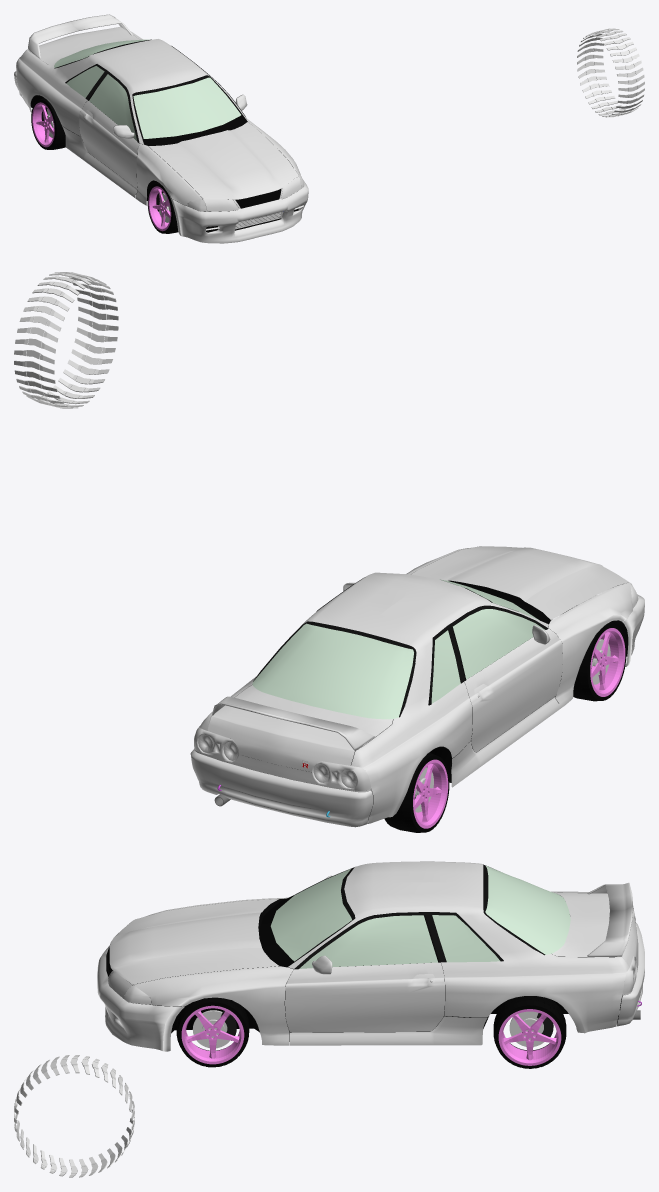
Rendered from new_wheels.fbx.
3 views of the same model, one above another, from view 1: azimuth 30°, elevation 25°; view 2: azimuth 150°, elevation 25°; view 3: azimuth 270°, elevation 25° (orthographic). The views are drawn at different scales.
Visible parts, largest first — view 1: крыша и задние крылья, капот, лобовое стекло, передний бампер, Plane, двери.005, передние крылья.001, багажник, двери.007, спойлер, Circle.004, Circle.002 (+5 smaller); view 2: крыша и задние крылья, заднее стекло, капот, багажник, двери.005, Plane, задний бампер, передние крылья.001, двери.007, Circle.004, Circle.002, задние фары (+3 smaller); view 3: крыша и задние крылья, двери, капот, передние крылья, лобовое стекло, заднее стекло, двери.002, Circle.003, передний бампер, пороги, Circle.001, багажник (+7 smaller).
Boxes of the visible parts, bbox=[...] form: крыша и задние крылья: bbox=[16, 31, 245, 144]; капот: bbox=[149, 122, 298, 199]; лобовое стекло: bbox=[132, 75, 246, 147]; передний бампер: bbox=[170, 170, 308, 243]; Plane: bbox=[577, 28, 644, 117]; двери.005: bbox=[79, 100, 139, 189]; передние крылья.001: bbox=[135, 144, 202, 205]; багажник: bbox=[27, 27, 139, 66]; двери.007: bbox=[89, 74, 136, 140]; спойлер: bbox=[28, 14, 133, 58]; Circle.004: bbox=[31, 98, 65, 149]; Circle.002: bbox=[147, 182, 178, 233]; крыша и задние крылья: bbox=[196, 572, 548, 823]; заднее стекло: bbox=[252, 621, 416, 719]; капот: bbox=[411, 546, 628, 619]; багажник: bbox=[207, 685, 392, 771]; двери.005: bbox=[464, 628, 562, 752]; Plane: bbox=[14, 272, 118, 408]; задний бампер: bbox=[190, 748, 372, 827]; передние крылья.001: bbox=[548, 582, 632, 709]; двери.007: bbox=[453, 609, 544, 679]; Circle.004: bbox=[384, 752, 449, 832]; Circle.002: bbox=[573, 622, 626, 701]; задние фары: bbox=[194, 728, 370, 790]; крыша и задние крылья: bbox=[288, 861, 629, 1033]; двери: bbox=[285, 962, 444, 1032]; капот: bbox=[109, 899, 278, 984]; передние крылья: bbox=[133, 966, 293, 1045]; лобовое стекло: bbox=[259, 867, 355, 967]; заднее стекло: bbox=[483, 864, 570, 955]; двери.002: bbox=[299, 915, 437, 968]; Circle.003: bbox=[493, 996, 566, 1068]; передний бампер: bbox=[97, 945, 184, 1051]; пороги: bbox=[290, 1016, 487, 1045]; Circle.001: bbox=[176, 997, 249, 1067]; багажник: bbox=[552, 892, 638, 966].
Size of the model in its own units: 1104 by 354 by 1044.
